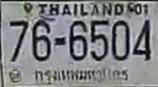0: (111, 19, 129, 60)
4: (132, 19, 150, 60)
5: (91, 19, 108, 60)
6: (32, 19, 50, 60), (69, 20, 86, 60)
7: (9, 19, 27, 61)
BKK: (32, 66, 131, 85)
